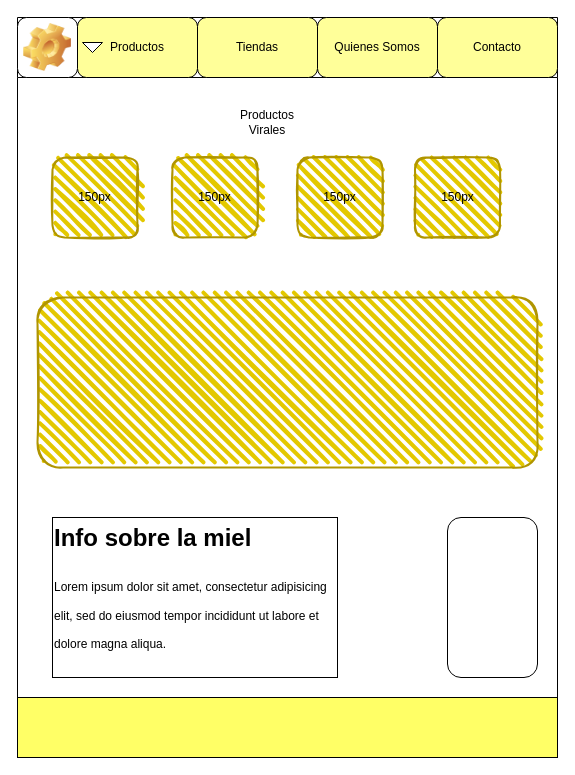
This 575x775 diagram has some shape labels left out. Each missing label, with the centre of its shape:
"1400px Carrusel con Apiarios" goes at (287,382).
"1600px Footer" goes at (287,727).
"Icon" goes at (47,47).
"Promociones actuales" goes at (492,597).
